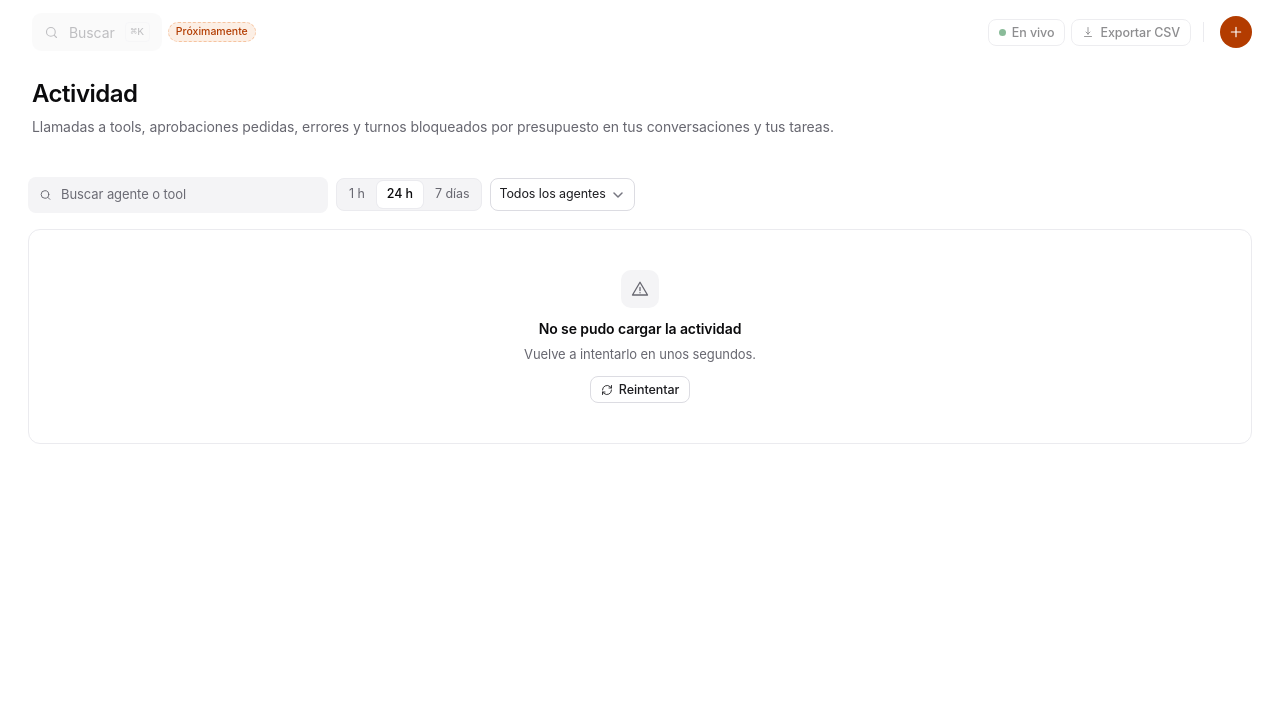
it: ActivityPage › shows the skeleton while loading and an error with «Reintentar»
The image size is (1280, 720).
Expected: the text "No se pudo cargar la actividad" is shown, x1=539 y1=318 x2=741 y2=338
Expected: the text "Eventos · 24 h" is not shown
Click the button "Reintentar" at (640,390), box x1=590 y1=376 x2=690 y2=403
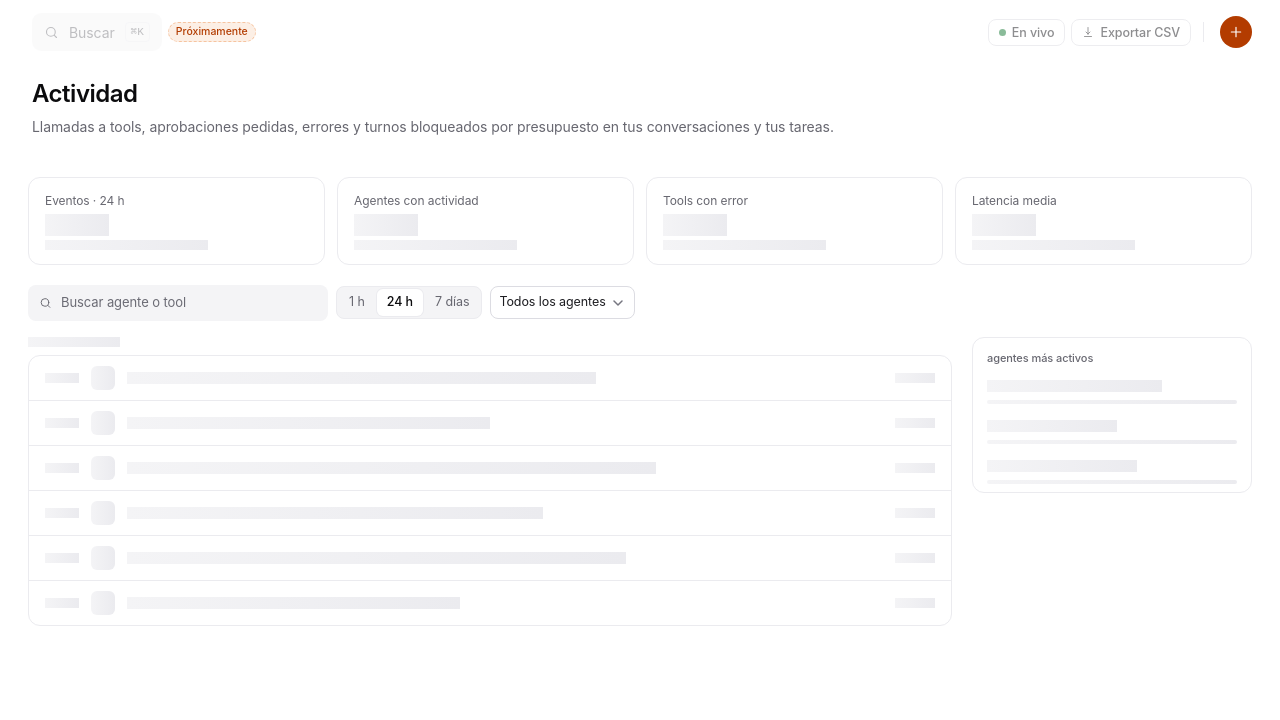
Expected: the message named "Cargando la actividad" is shown, x1=0 y1=336 x2=1279 y2=674
Expected: the text "Eventos · 24 h" is shown, x1=45 y1=193 x2=125 y2=208
Expected: the text "Agentes con actividad" is shown, x1=354 y1=193 x2=479 y2=208
